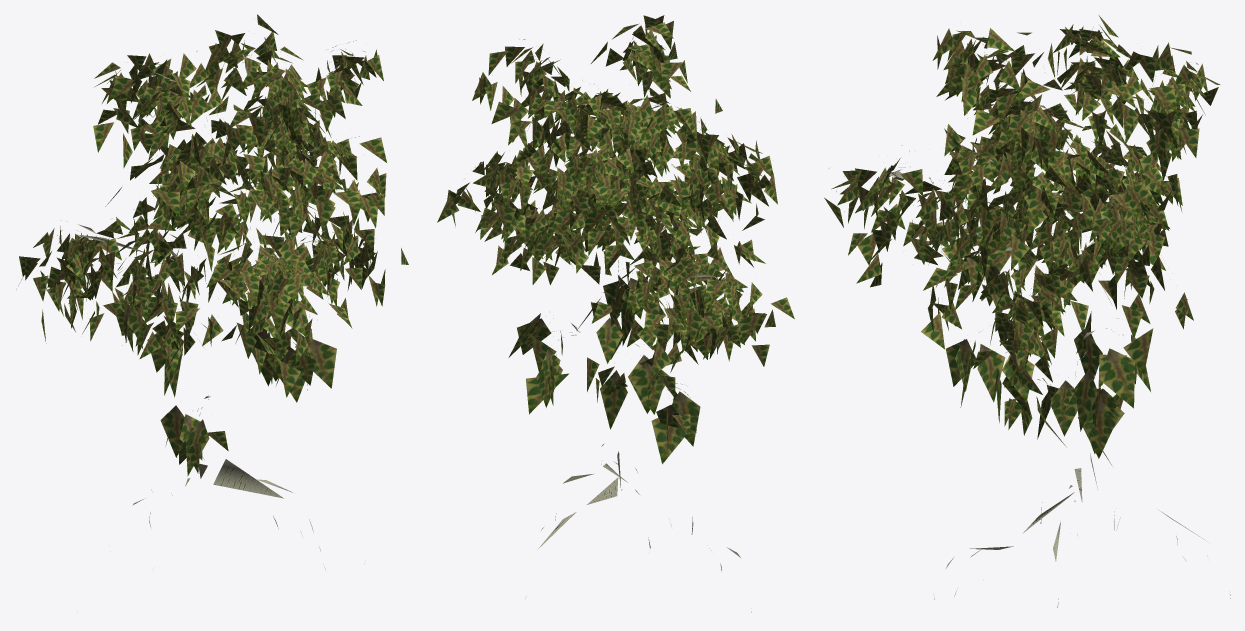
Rendered from birch_0_lod1.glb.
3 renders of one model, left to right at view 1: azimuth 30°, elevation 25°; view 2: azimuth 150°, elevation 25°; view 3: azimuth 270°, elevation 25°, orthographic. The views are drawn at different scales.
Parts seen in each view (by area): view 1: Foliage_LOD1, Bark_LOD1; view 2: Foliage_LOD1, Bark_LOD1; view 3: Foliage_LOD1, Bark_LOD1.
Boxes of the visible parts, box(x1,y1,x2,y2) form: Foliage_LOD1: box(18, 14, 408, 476); Bark_LOD1: box(45, 18, 367, 569); Foliage_LOD1: box(437, 15, 794, 464); Bark_LOD1: box(475, 36, 770, 612); Foliage_LOD1: box(824, 15, 1220, 464); Bark_LOD1: box(829, 29, 1230, 607).
Bounding box in the file's own units: 7.55 × 11.18 × 6.86.
Materials: 2 (2 with a texture image).
